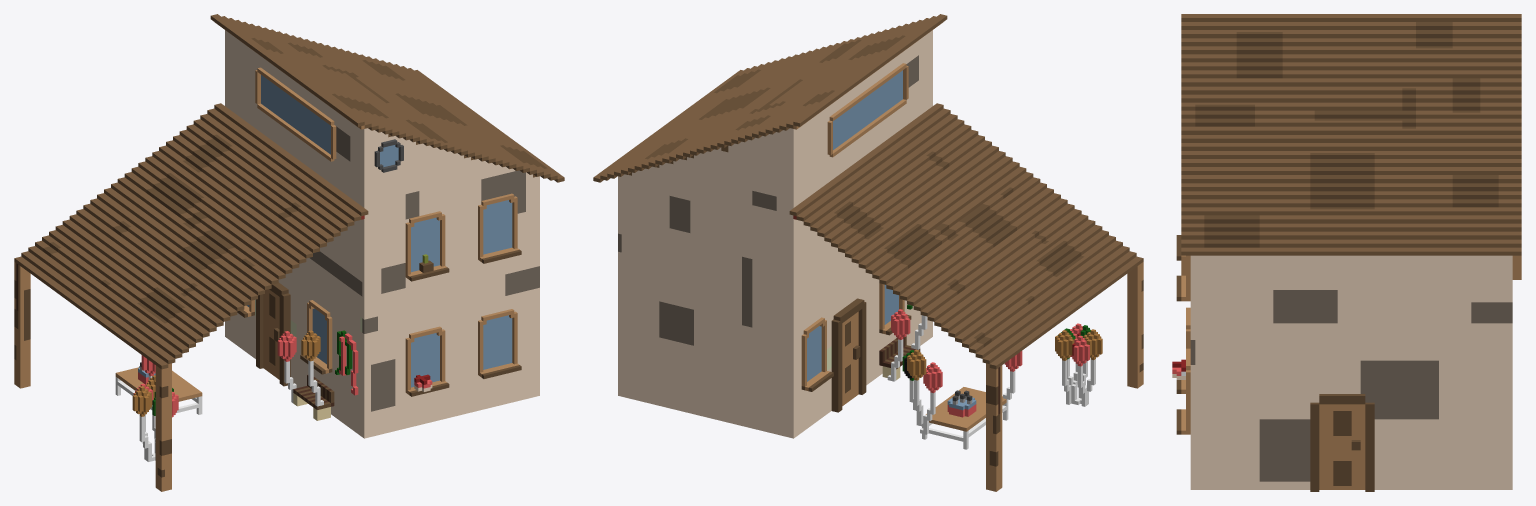
File: map v1.0-23.obj
The picture shows the model from 3 angles, left to right: view 1: azimuth 30°, elevation 25°; view 2: azimuth 150°, elevation 25°; view 3: azimuth 270°, elevation 25°; orthographic projection. The views are drawn at different scales.
Bounding box in the file's own units: 11.7 × 8.9 × 7.6.
Materials: 1 (1 with a texture image).
